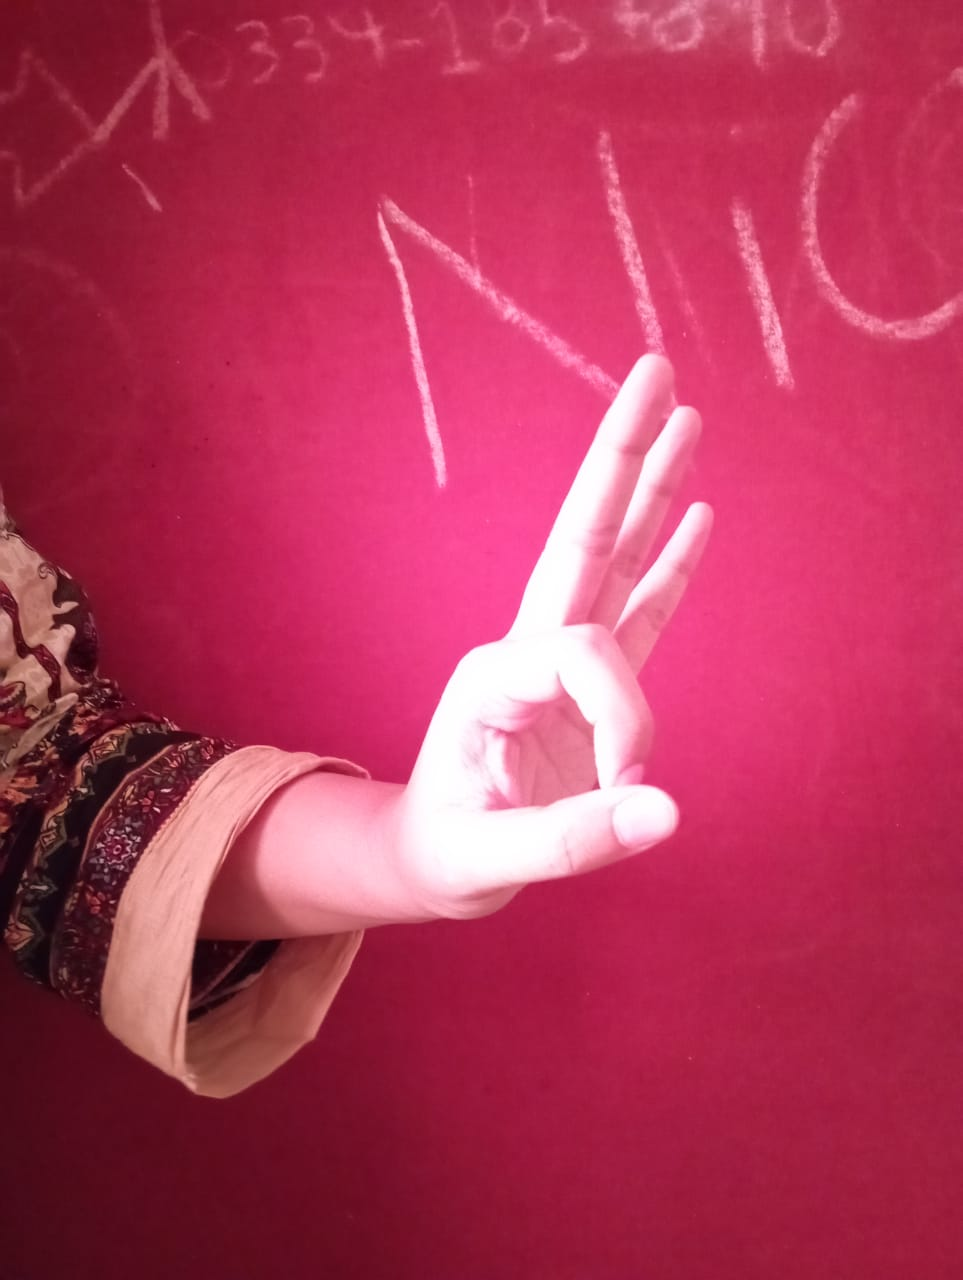Awesome: (403, 341, 732, 933)
